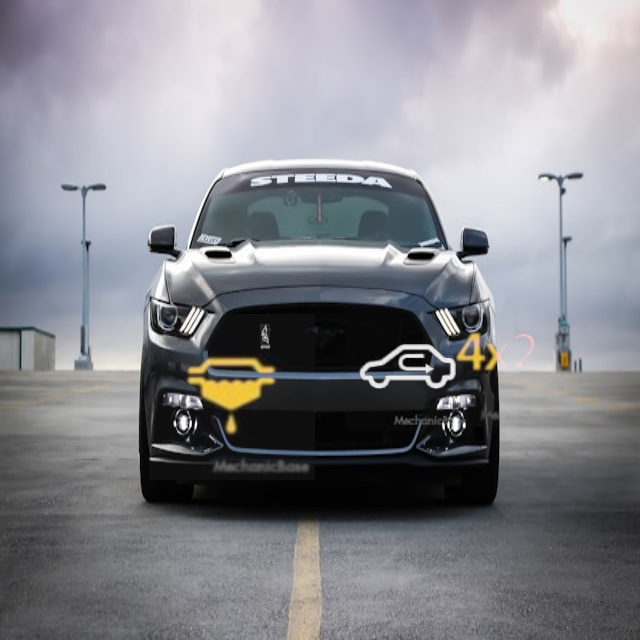symbol: (149, 314, 315, 480), (423, 279, 571, 427), (345, 305, 471, 431)
